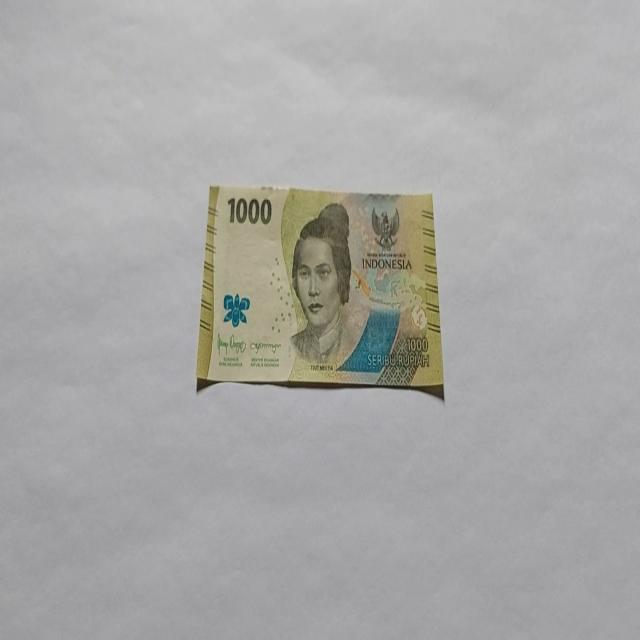seribu rupiah kertas: (195, 183, 445, 399)
